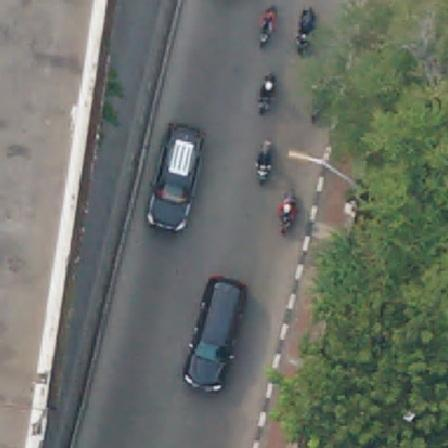Car: (186, 281, 245, 395), (146, 121, 205, 232)
Motorcycle: (252, 140, 279, 186), (278, 189, 299, 238), (257, 6, 280, 46), (294, 9, 315, 51), (258, 71, 276, 113)
